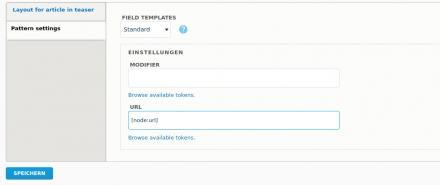button: (6, 168, 54, 181)
dropdown: (121, 22, 173, 38)
input: (129, 111, 342, 132), (130, 69, 342, 89)
label: (130, 62, 163, 69), (130, 103, 144, 112)
